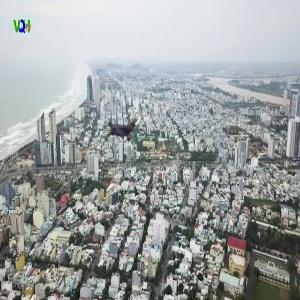drone: (101, 108, 145, 152)
